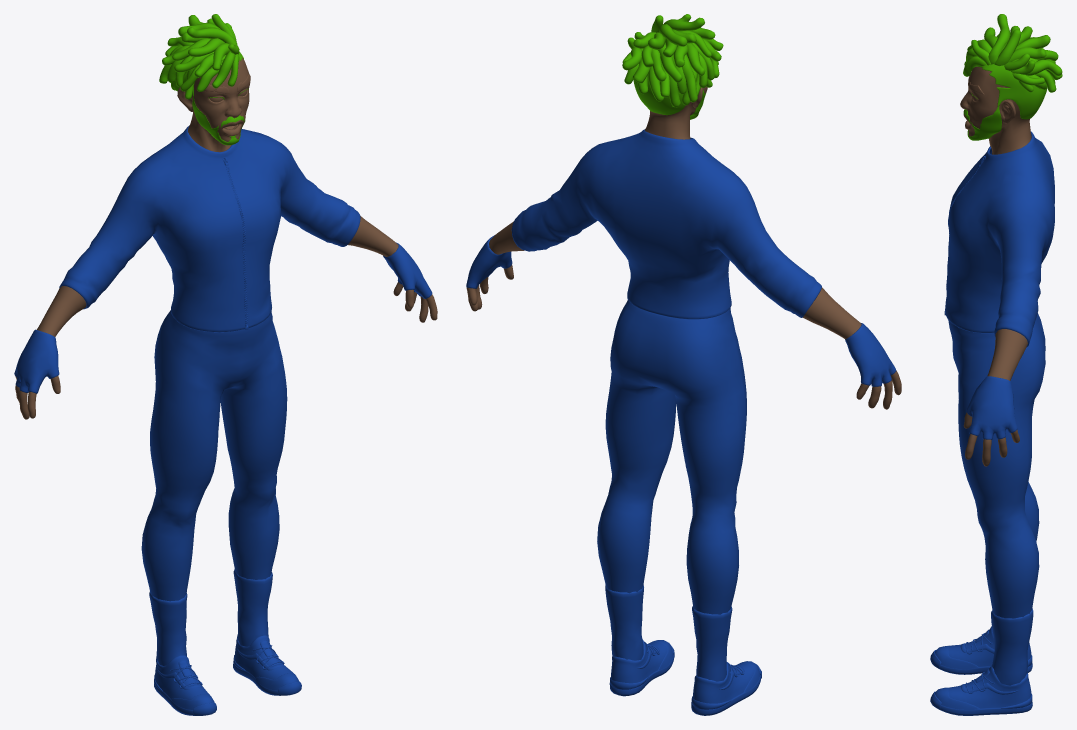
File: Tag_TestModel_01.fbx
The picture shows the model from 3 angles, left to right: view 1: azimuth 30°, elevation 25°; view 2: azimuth 150°, elevation 25°; view 3: azimuth 270°, elevation 25°; orthographic projection. The views are drawn at different scales.
Parts seen in each view (by area): view 1: Shirt_low, Pants_low, Body_low, HairLocks_low, Socks_low, Gloves_low, Base_low, Front_low; view 2: Pants_low, Shirt_low, HairLocks_low, Body_low, Socks_low, Base_low, Gloves_low, HairBase_low; view 3: Shirt_low, Pants_low, Body_low, HairLocks_low, Base_low, Gloves_low, Socks_low, HairBase_low, Front_low, Beard_low, Decal_low, Guard_low.
Part boxes in pixels (<box>): Shirt_low: <box>59,125,360,332</box>; Pants_low: <box>141,310,287,601</box>; Body_low: <box>15,57,437,419</box>; HairLocks_low: <box>159,14,239,99</box>; Socks_low: <box>149,569,272,665</box>; Gloves_low: <box>14,242,432,393</box>; Base_low: <box>154,635,296,715</box>; Front_low: <box>171,673,298,709</box>; Pants_low: <box>597,300,746,614</box>; Shirt_low: <box>511,129,821,319</box>; HairLocks_low: <box>622,14,723,107</box>; Body_low: <box>466,86,901,409</box>; Socks_low: <box>605,585,732,681</box>; Base_low: <box>609,639,761,715</box>; Gloves_low: <box>466,235,896,386</box>; HairBase_low: <box>633,62,685,115</box>; Shirt_low: <box>945,131,1054,346</box>; Pants_low: <box>948,313,1045,618</box>; Body_low: <box>960,66,1031,466</box>; HairLocks_low: <box>963,14,1062,92</box>; Base_low: <box>939,626,1032,715</box>; Gloves_low: <box>966,376,1017,439</box>; Socks_low: <box>991,608,1033,685</box>; HairBase_low: <box>978,64,1047,119</box>; Front_low: <box>935,645,979,709</box>; Beard_low: <box>963,106,1001,140</box>; Decal_low: <box>960,643,1018,694</box>; Guard_low: <box>930,650,941,709</box>.
Bounding box in the file's own units: 5.69 × 8.81 × 1.6.
